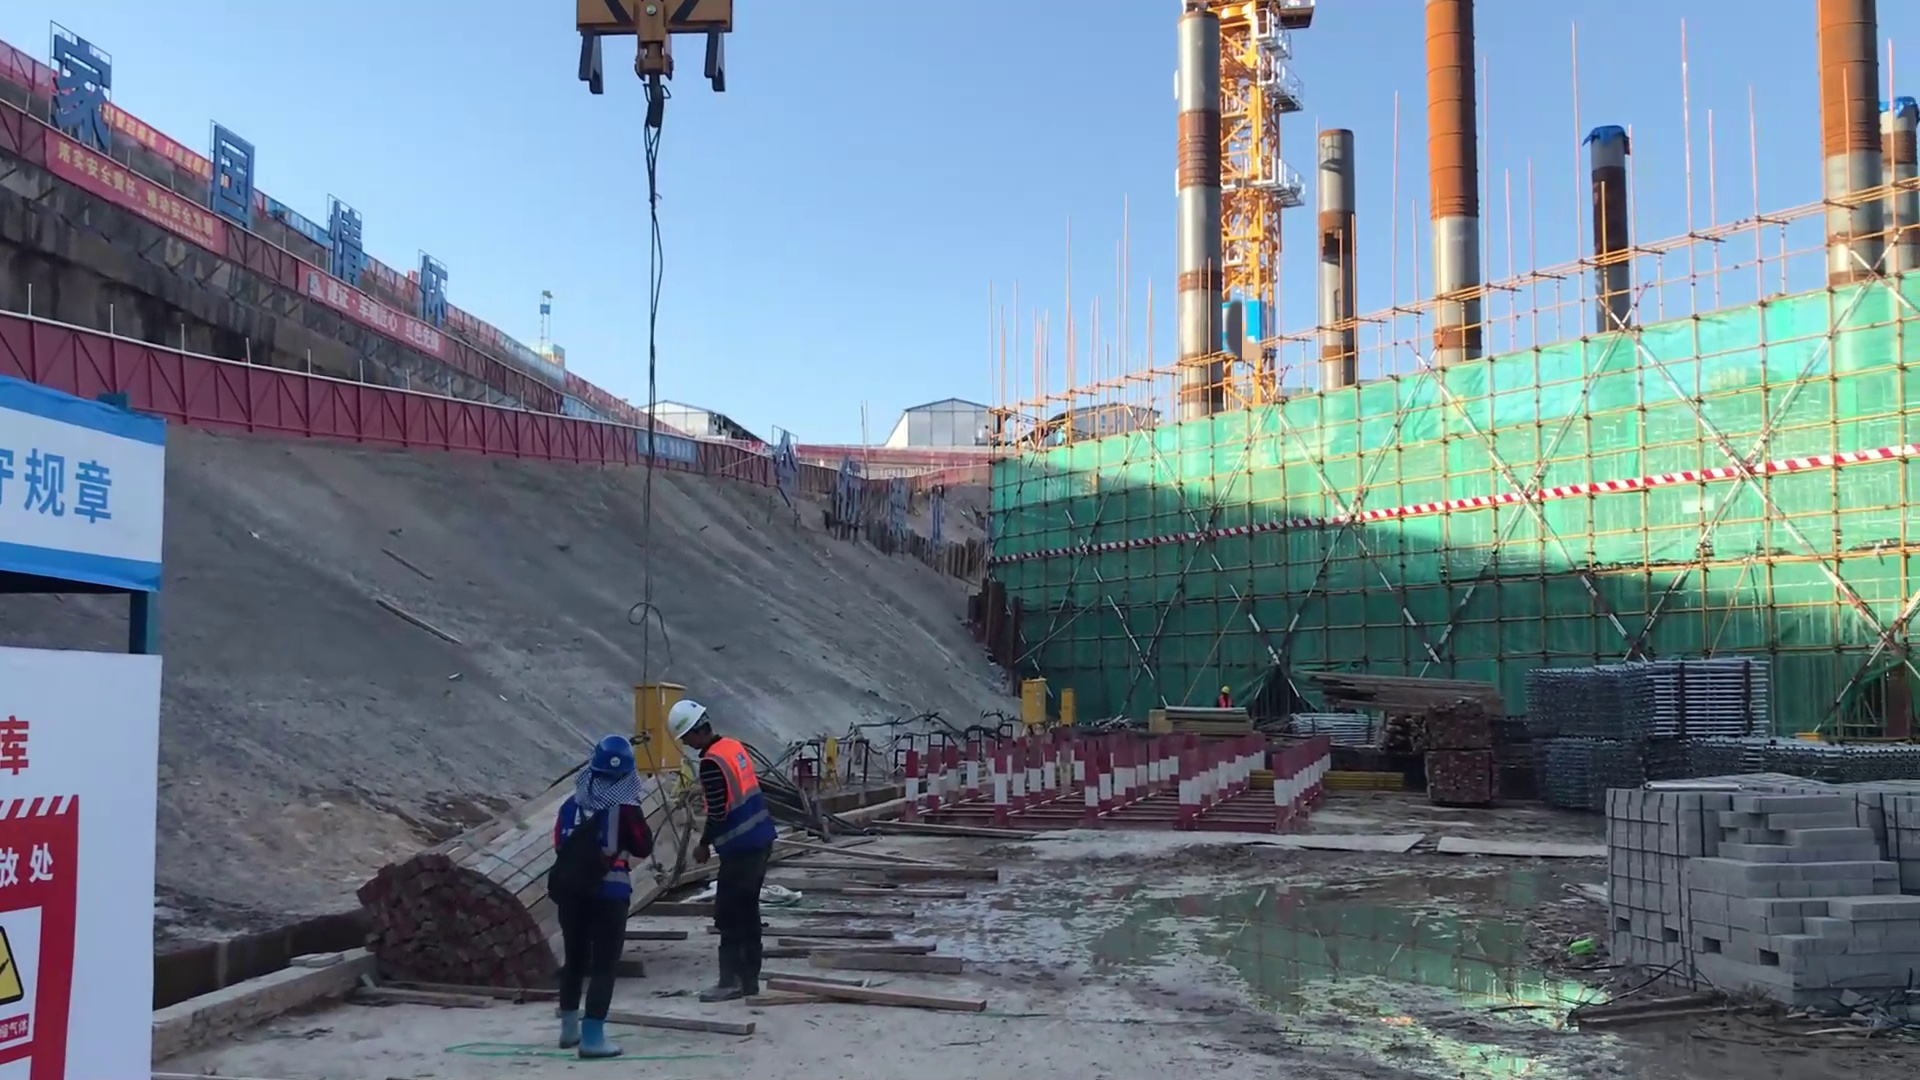brick: (1597, 761, 1920, 1018)
ebox: (1017, 676, 1049, 731), (1056, 689, 1078, 727)
fence: (164, 352, 515, 467), (515, 415, 643, 472)
helmet: (572, 732, 634, 790), (664, 696, 713, 746), (1220, 683, 1229, 693)
hook: (583, 1, 729, 97)
person: (542, 727, 647, 1070), (659, 693, 770, 1010), (1213, 685, 1234, 711)
scaffold: (1524, 661, 1715, 749), (1536, 731, 1625, 820)
slogan: (1, 427, 181, 612), (38, 139, 223, 294)
vest: (697, 749, 753, 817), (1216, 694, 1230, 708)
wood: (338, 819, 541, 1013), (1311, 667, 1501, 718)
